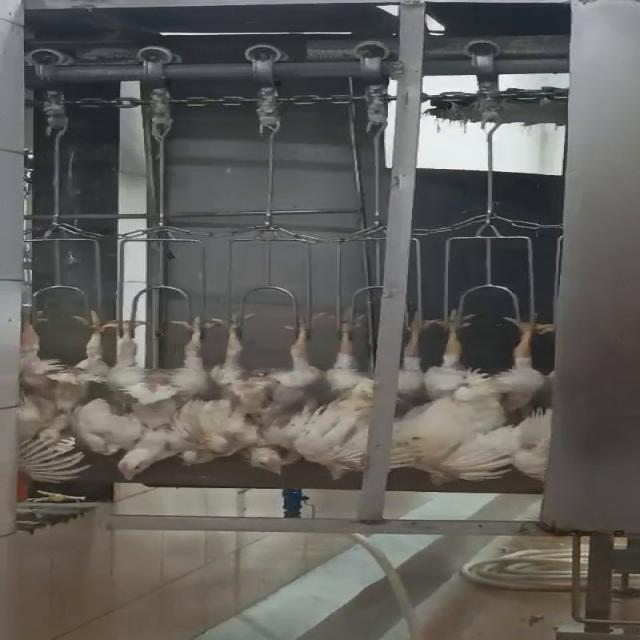chicken: (402, 313, 556, 489), (284, 309, 426, 479), (80, 313, 213, 486), (4, 313, 120, 485), (217, 309, 315, 478)
